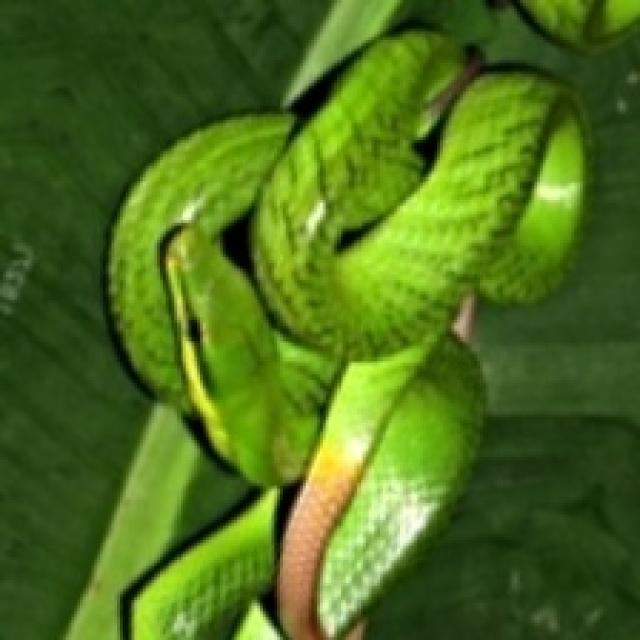red-tailed green ratsnake: (109, 31, 586, 637)
